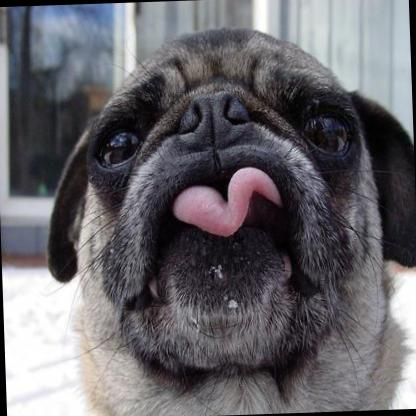pug: (38, 19, 416, 416)
